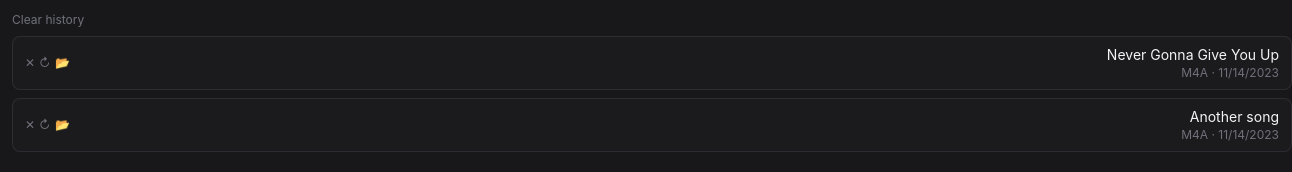
Test: HistoryList › removes a single entry
Check: the text "Never Gonna Give You Up" is shown, box [1107, 46, 1279, 63]
Click the button named "Remove from history" at (30, 63), box [25, 55, 35, 71]
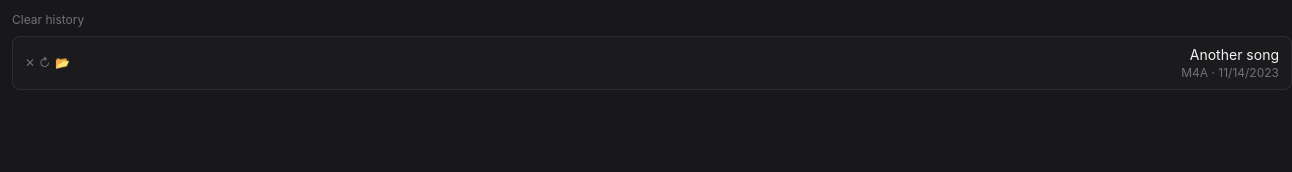
Check: the text "Another song" is shown, box [1190, 46, 1279, 63]
Check: the text "Never Gonna Give You Up" is gone
